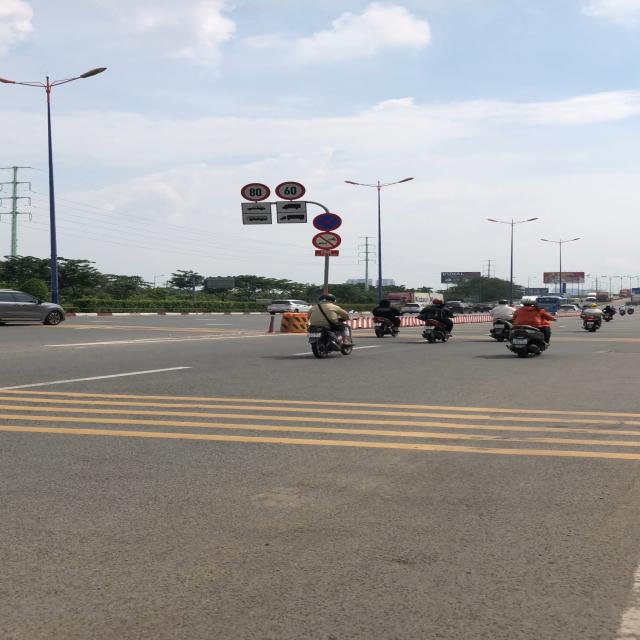Bien bao cam dung xe va do xe: (312, 212, 343, 232)
Bien bao toc do toi da cho phep: (240, 182, 272, 202), (274, 181, 306, 201)
